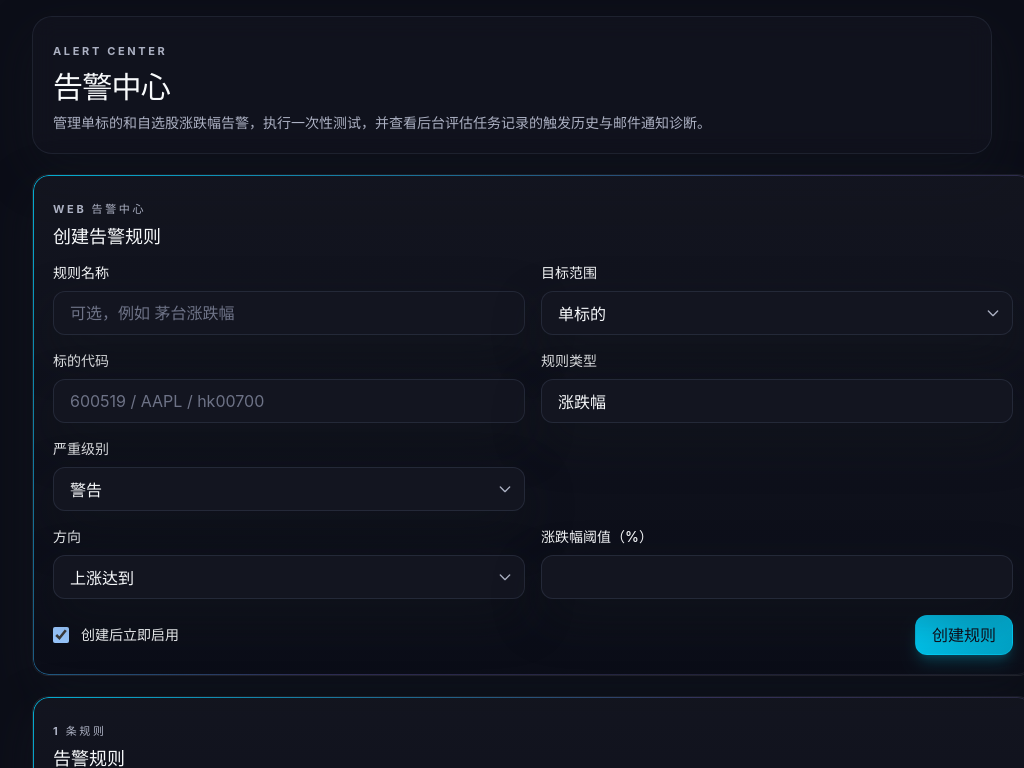
Test: AlertsPage › keeps create form values when create API fails
Type "aapl" into the field labelled "标的代码".
click(289, 401); type("aapl")  # box [53, 379, 525, 423]
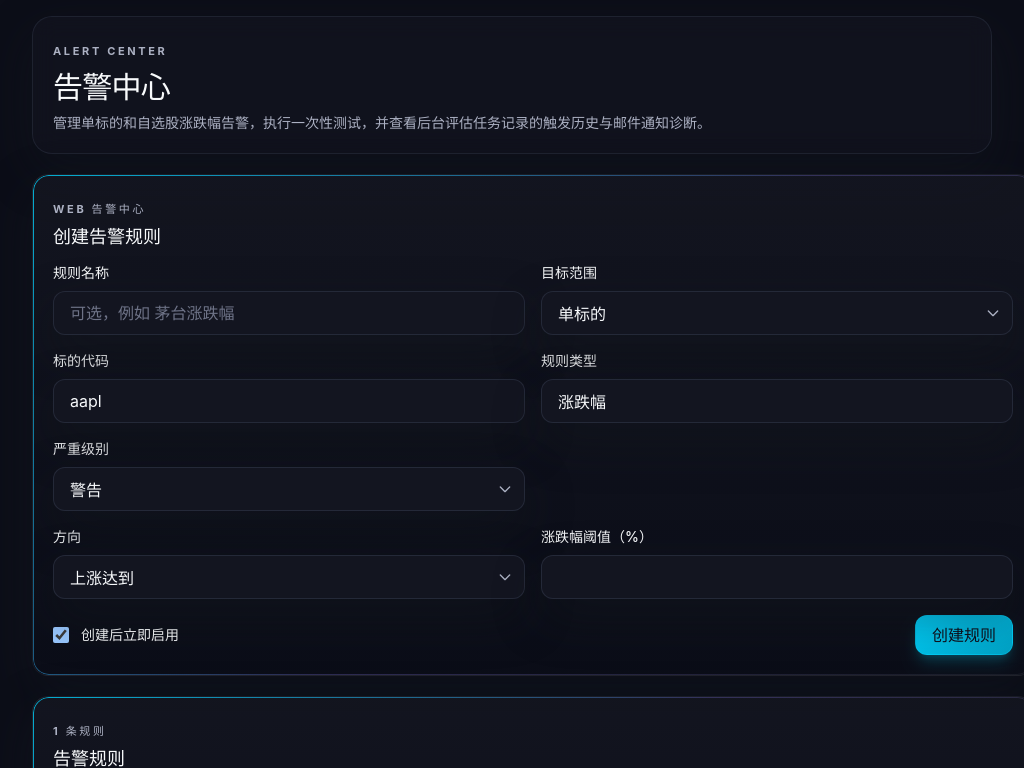
Type "2" into the number field labelled "涨跌幅阈值（%）".
click(777, 577); type("2")  # box [541, 555, 1013, 599]
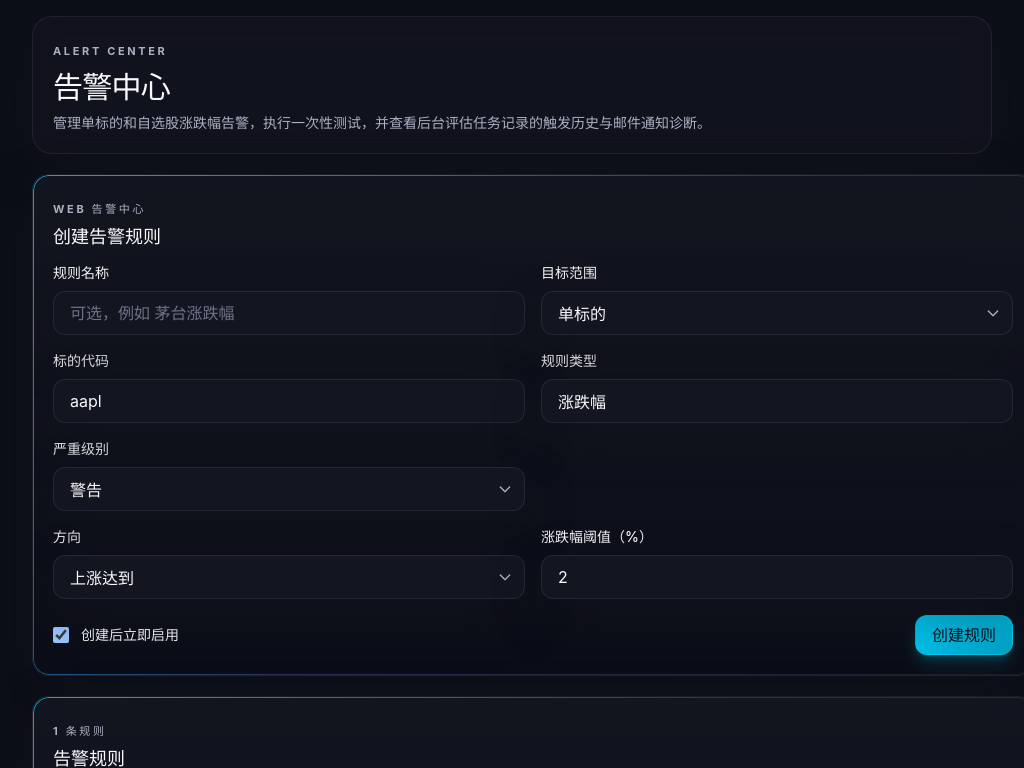
Click the button "创建规则".
click(964, 635)  # box [915, 615, 1013, 655]
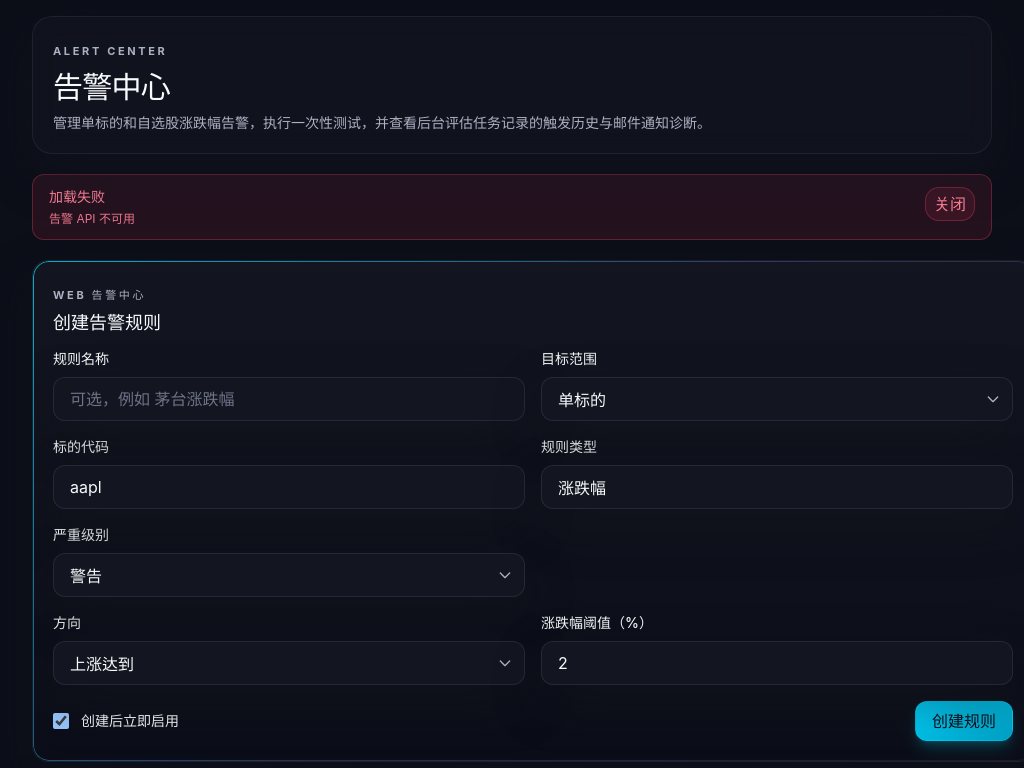
Now the text "加载失败" is shown, box [49, 188, 105, 205]
